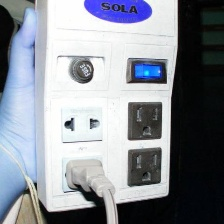three_eye_plug: (29, 0, 182, 215)
